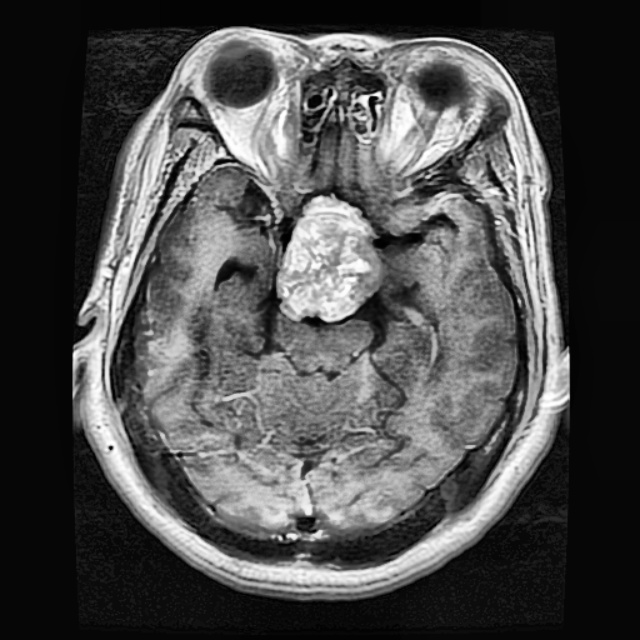Pituitary: (277, 197, 380, 317)
